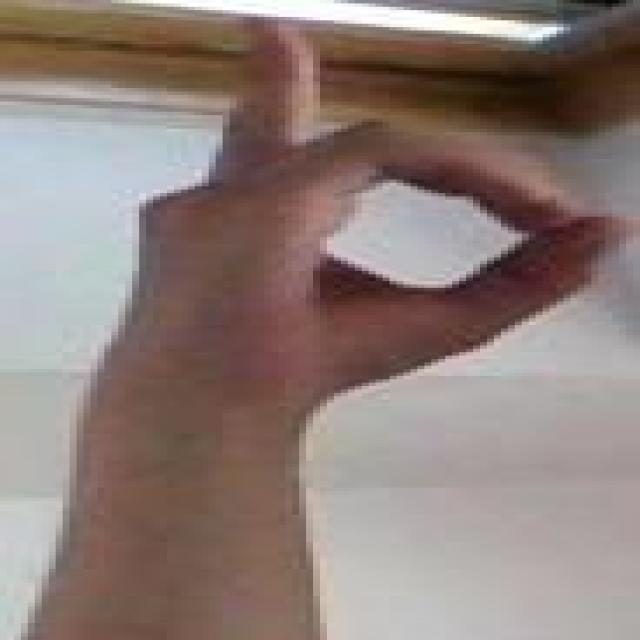D1: (0, 8, 640, 416)
